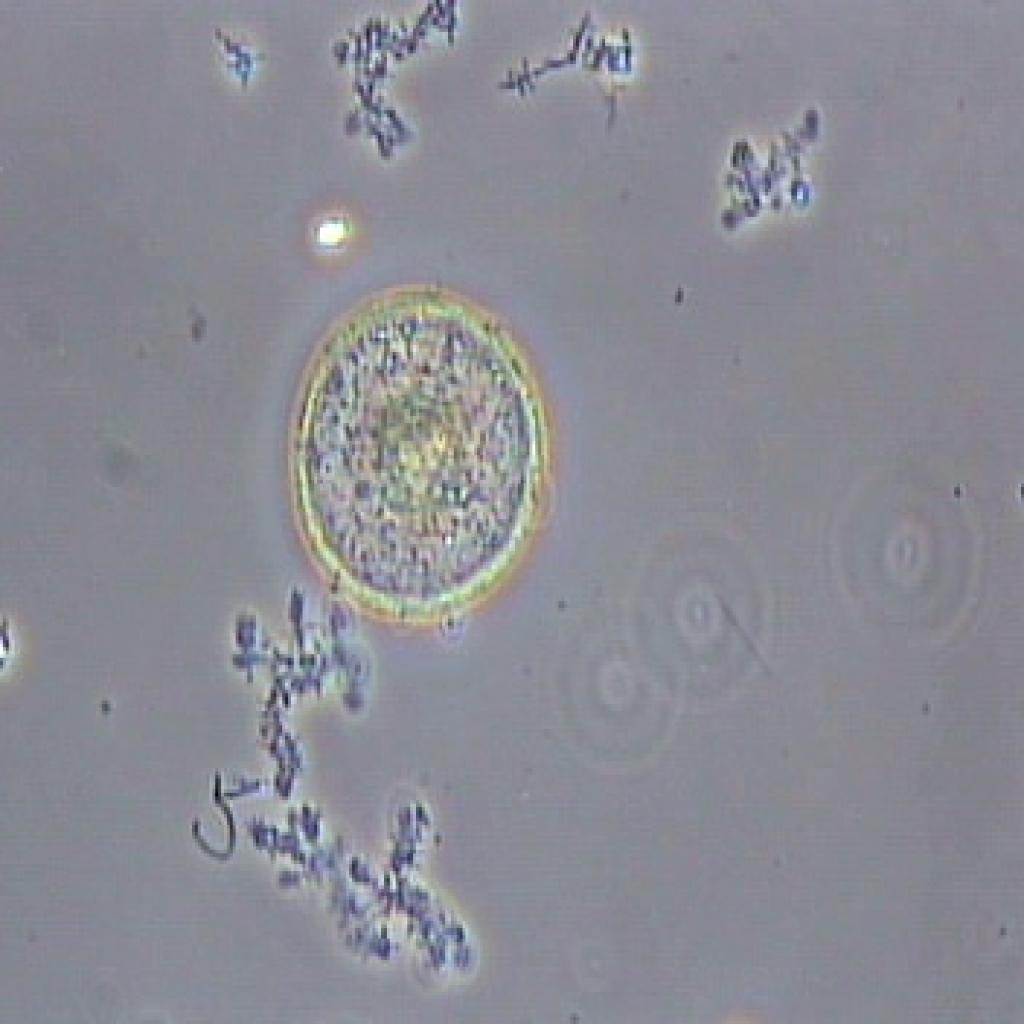Arcella: (268, 272, 562, 642)
